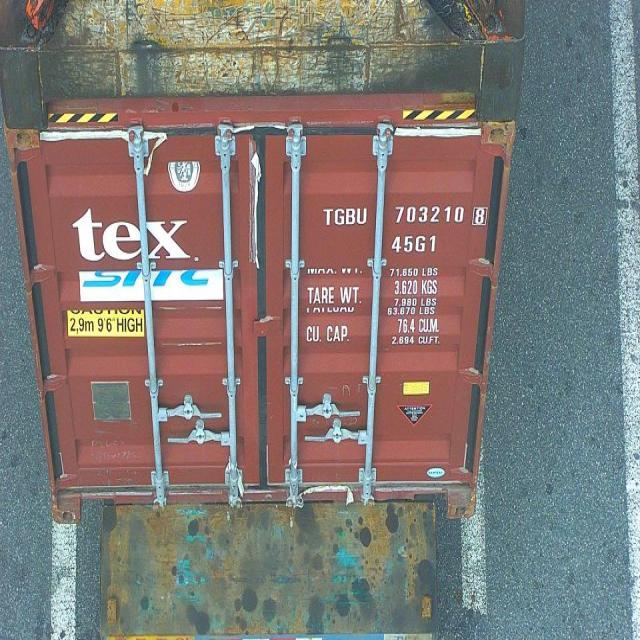ISO: (392, 234, 437, 254)
container_number: (326, 203, 486, 225)
